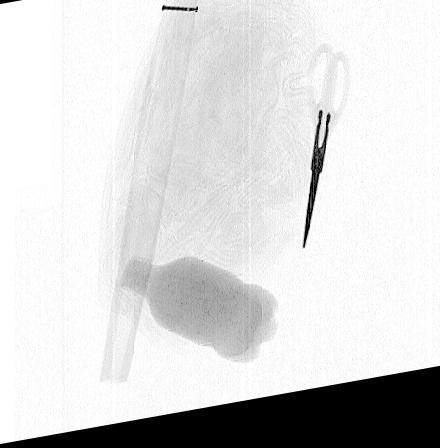Scissors: (301, 53, 352, 264)
